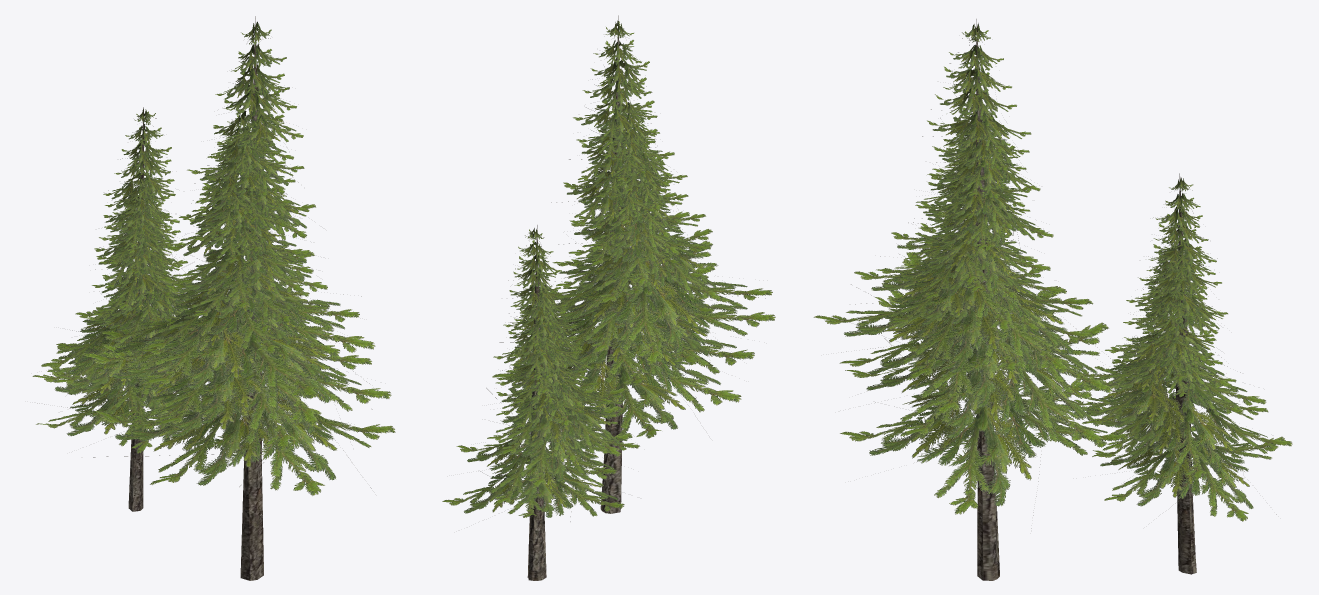
File: pine.glb
The picture shows the model from 3 angles, left to right: view 1: azimuth 30°, elevation 25°; view 2: azimuth 150°, elevation 25°; view 3: azimuth 270°, elevation 25°; orthographic projection. The views are drawn at different scales.
Parts seen in each view (by area): view 1: Object_2; view 2: Object_2; view 3: Object_2.
Part boxes in pixels (<box>): Object_2: <box>32,16,395,580</box>; Object_2: <box>442,15,775,580</box>; Object_2: <box>813,19,1292,580</box>.
Size of the model in its own units: 1.13 by 2.01 by 1.61.
1 material, 1 textured.
